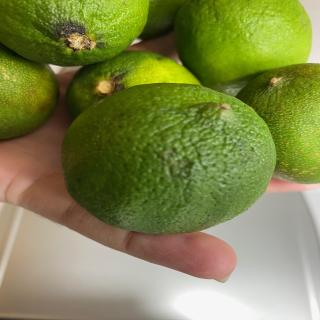Chilli: (60, 82, 277, 234)
Lemon: (174, 0, 312, 91), (234, 62, 320, 184), (0, 0, 150, 67), (65, 50, 202, 120), (0, 43, 60, 140)
